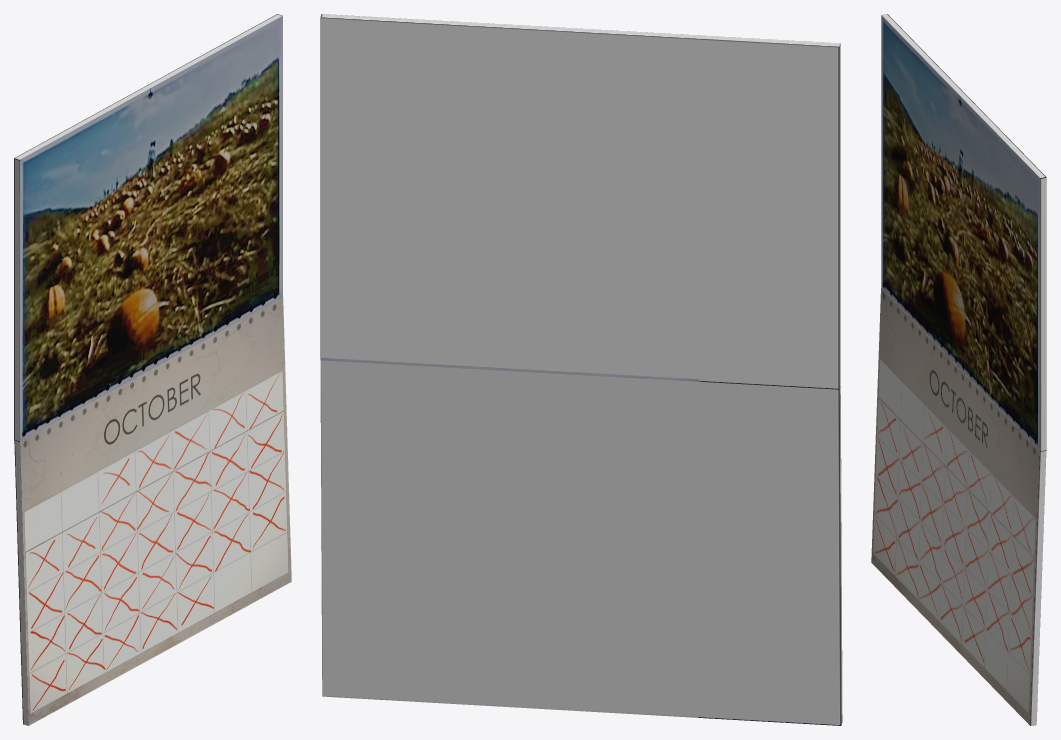
File: calendar_of_george_a._romeros_day_of_the_dead.glb
The picture shows the model from 3 angles, left to right: view 1: azimuth 30°, elevation 25°; view 2: azimuth 150°, elevation 25°; view 3: azimuth 270°, elevation 25°; orthographic projection. The views are drawn at different scales.
Parts seen in each view (by area): view 1: Object_2, Object_3; view 2: Object_3, Object_2; view 3: Object_2, Object_3.
Part boxes in pixels (x1=…): Object_2: x1=14, y1=297, x2=291, y2=725; Object_3: x1=14, y1=14, x2=282, y2=441; Object_3: x1=320, y1=14, x2=840, y2=389; Object_2: x1=320, y1=360, x2=842, y2=725; Object_2: x1=871, y1=288, x2=1046, y2=725; Object_3: x1=881, y1=14, x2=1046, y2=451.
Size of the model in its own units: 6.18 by 9.47 by 2.76.
Materials: 2 (2 with a texture image).
